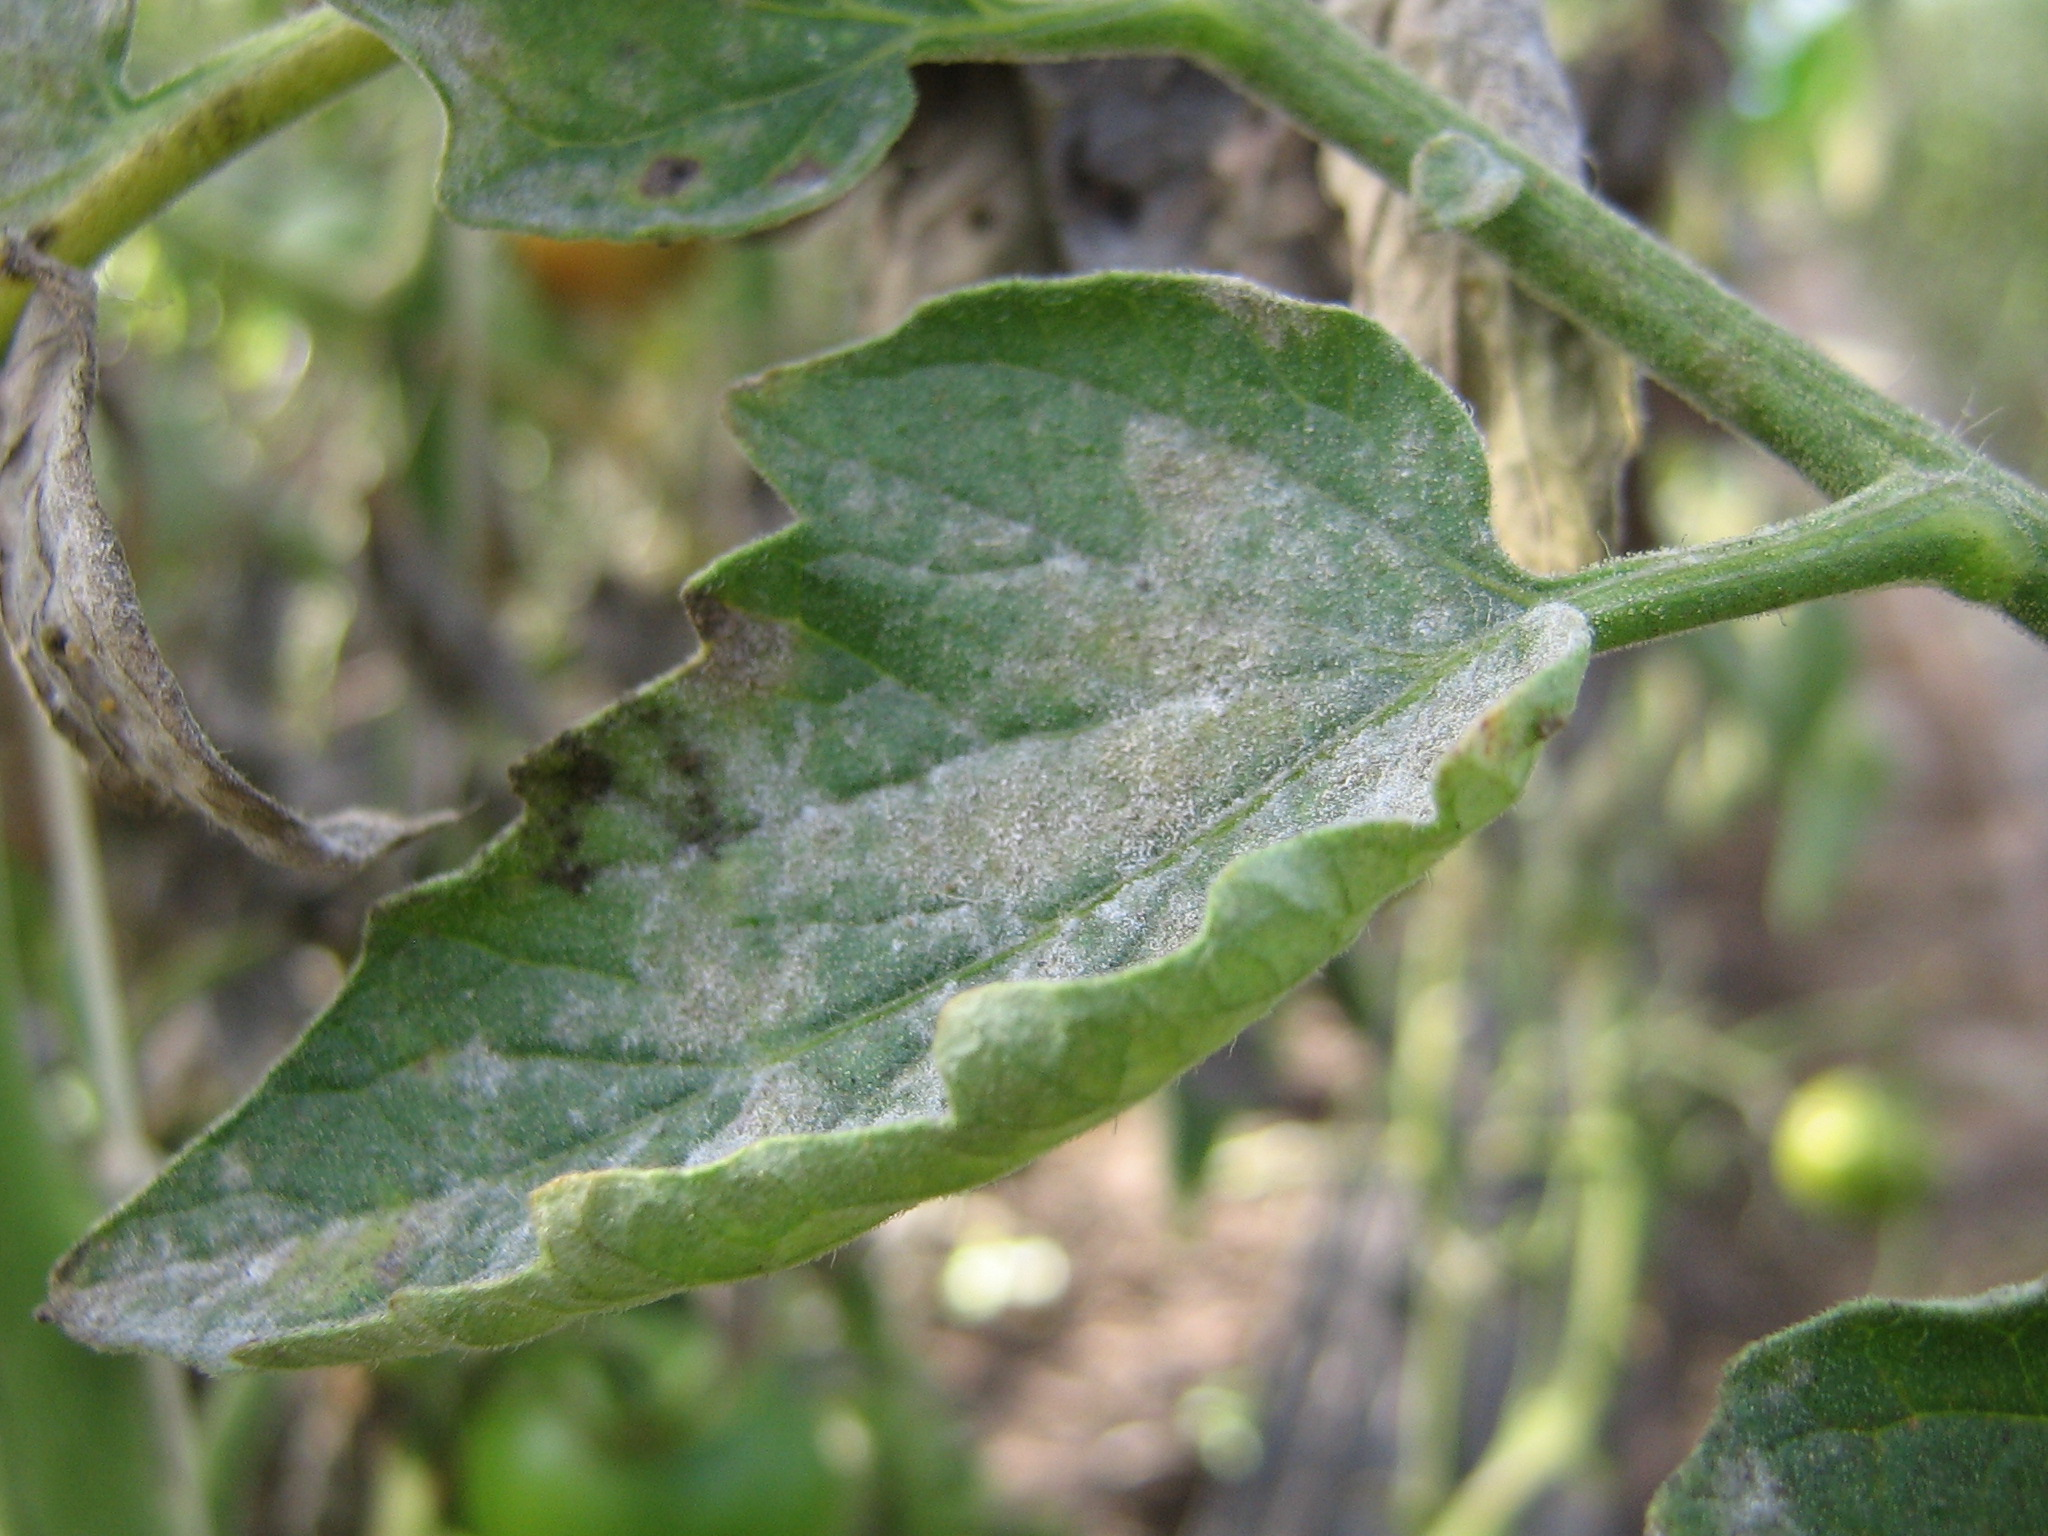blanca: (1111, 532, 1393, 797), (635, 936, 827, 1049)
